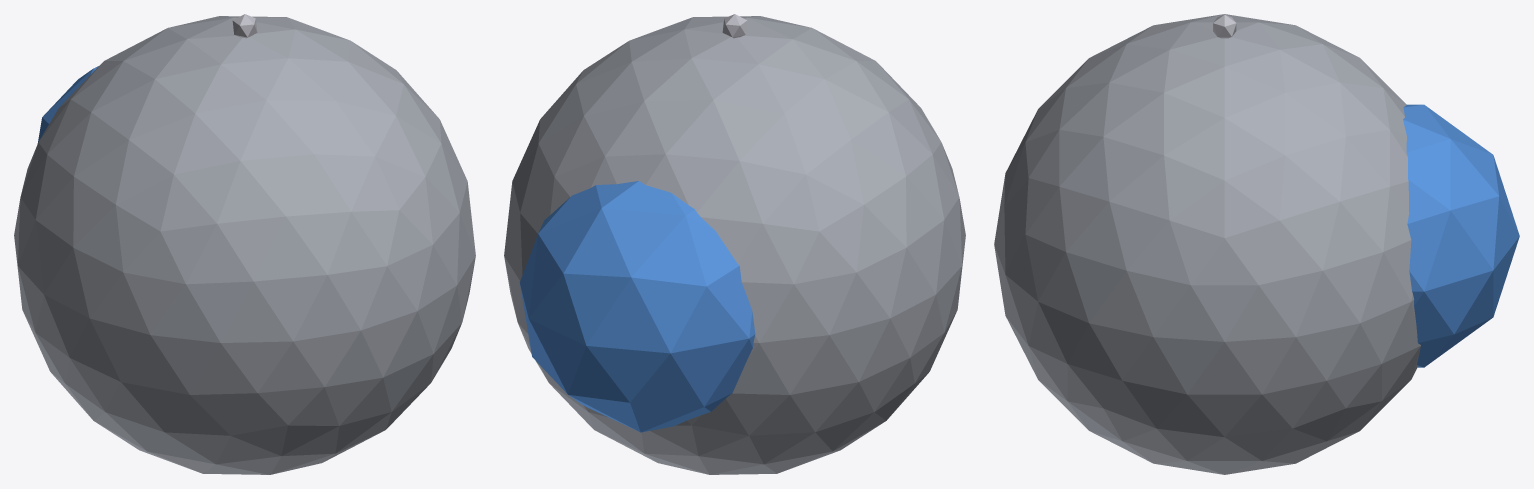
The model's file is american_head.glb.
3 renders of one model, left to right at view 1: azimuth 30°, elevation 25°; view 2: azimuth 150°, elevation 25°; view 3: azimuth 270°, elevation 25°, orthographic.
Parts seen in each view (by area): view 1: american_head; view 2: american_head; view 3: american_head.
Boxes of the visible parts, x1,y1,x2,y2 form: american_head: (14,14,475,474); american_head: (504,14,965,474); american_head: (994,14,1519,474).
Bounding box in the file's own units: 1 × 1.05 × 1.14.
